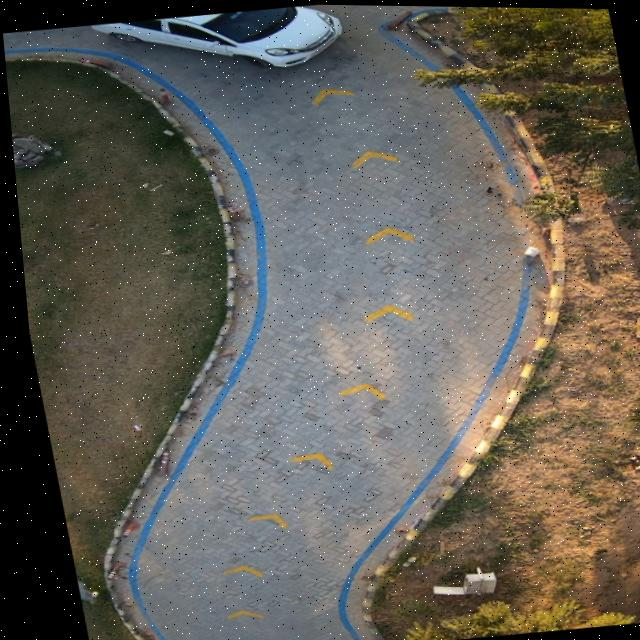car: (89, 4, 342, 65)
